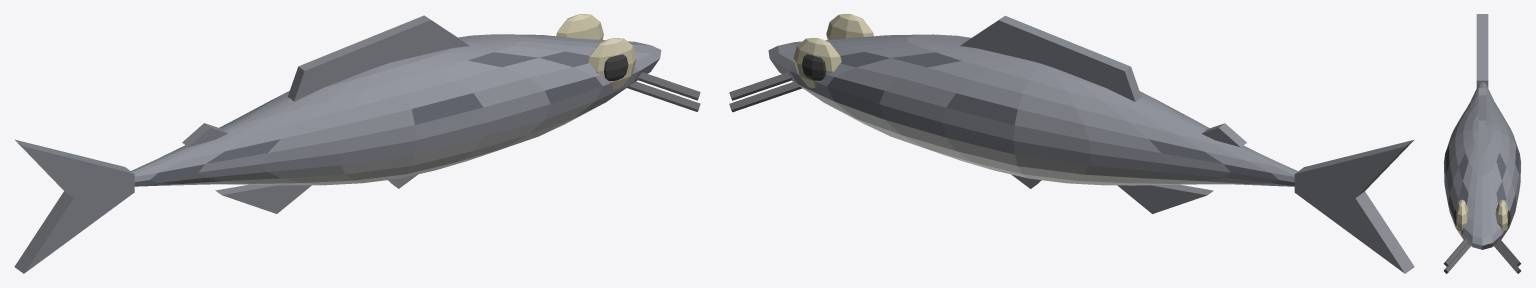
Rendered from ChannelCatfish.glb.
3 views of the same model, side by side, from view 1: azimuth 30°, elevation 25°; view 2: azimuth 150°, elevation 25°; view 3: azimuth 270°, elevation 25° (orthographic). The views are drawn at different scales.
Visible parts, largest first — view 1: ChannelCatfish; view 2: ChannelCatfish; view 3: ChannelCatfish.
Boxes of the visible parts, x1,y1,x2,y2 form: ChannelCatfish: (14,14,700,273); ChannelCatfish: (729,14,1414,273); ChannelCatfish: (1443,14,1521,273).
Size of the model in its own units: 6.14 by 1.45 by 1.03.
